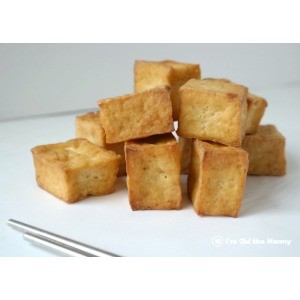tofu_brain food: (24, 60, 296, 219)
